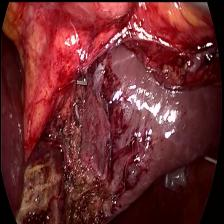Specimen Bag: (155, 152, 215, 206)
